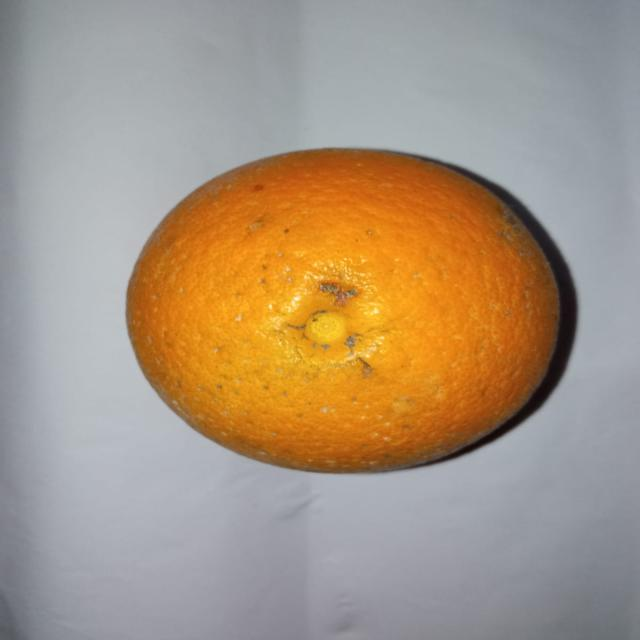fresh_orange: (126, 148, 564, 474)
